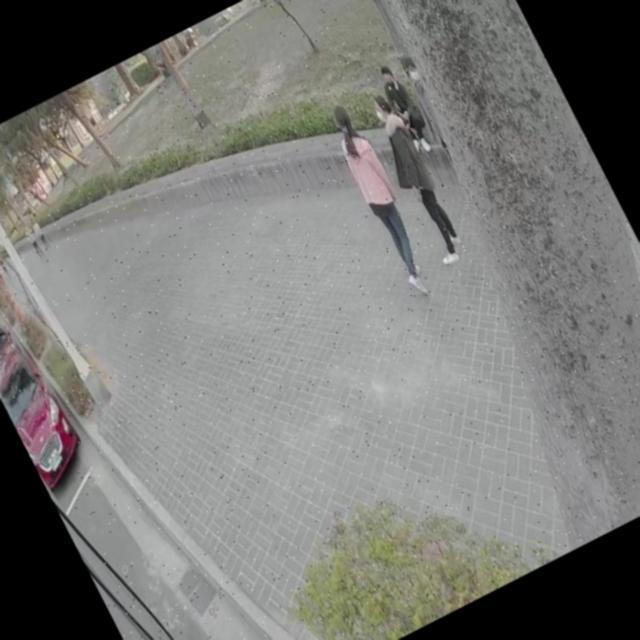person: (322, 102, 443, 300), (362, 88, 474, 268), (398, 56, 468, 173), (375, 61, 438, 156), (22, 218, 45, 256), (29, 213, 52, 250)
